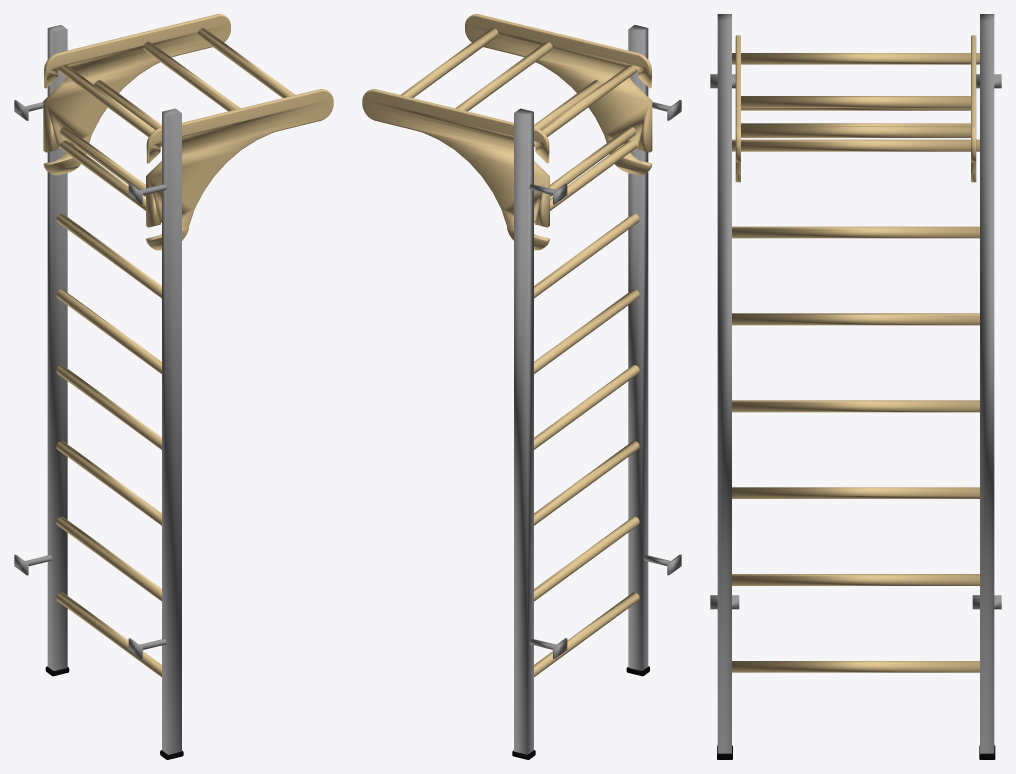
The model's file is swedishbar.fbx.
3 renders of one model, left to right at view 1: azimuth 30°, elevation 25°; view 2: azimuth 150°, elevation 25°; view 3: azimuth 270°, elevation 25°, orthographic. The views are drawn at different scales.
Visible parts, largest first — view 1: 3DSMeshMatrix; view 2: 3DSMeshMatrix; view 3: 3DSMeshMatrix.
Boxes of the visible parts, bbox=[...] form: 3DSMeshMatrix: bbox=[14, 14, 333, 759]; 3DSMeshMatrix: bbox=[362, 14, 681, 759]; 3DSMeshMatrix: bbox=[710, 14, 1001, 759].
Bounding box in the file's own units: 74.62 × 225 × 80.5.
